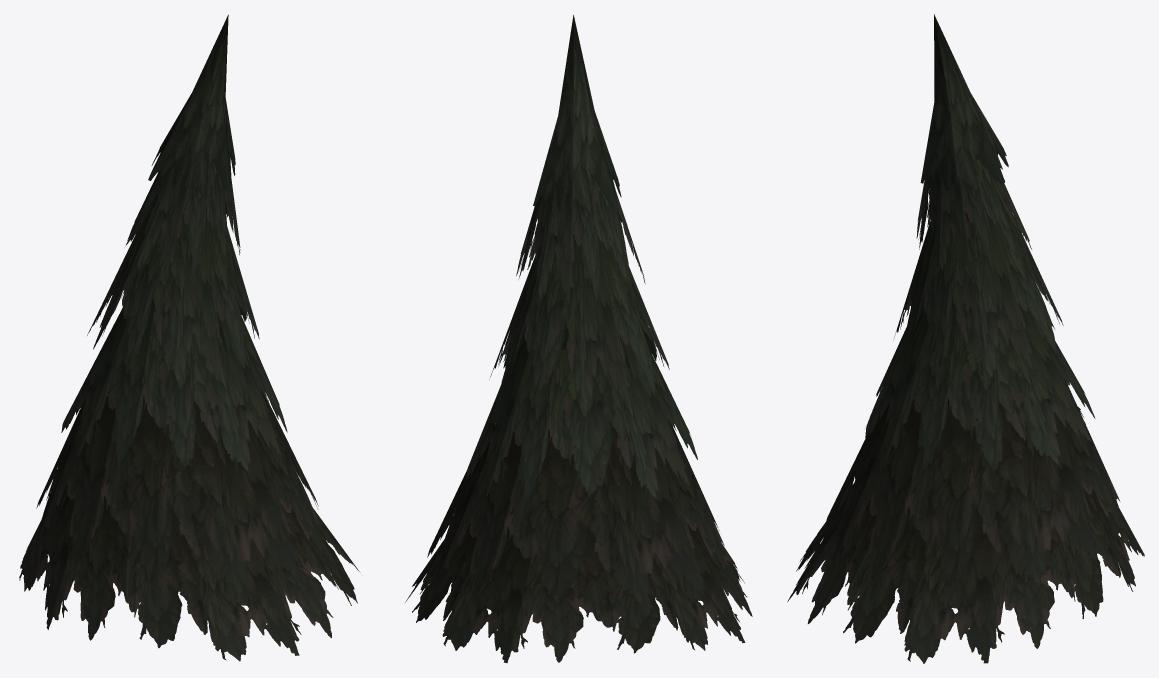
3 renders of one model, left to right at view 1: azimuth 30°, elevation 25°; view 2: azimuth 150°, elevation 25°; view 3: azimuth 270°, elevation 25°, orthographic.
Parts seen in each view (by area): view 1: G_wj8; view 2: G_wj8; view 3: G_wj8.
Boxes of the visible parts, x1=… form: G_wj8: x1=19, y1=14, x2=360, y2=661; G_wj8: x1=405, y1=15, x2=752, y2=663; G_wj8: x1=787, y1=14, x2=1144, y2=663.
Bounding box in the file's own units: 691 × 1260 × 689.
Materials: 1 (1 with a texture image).
